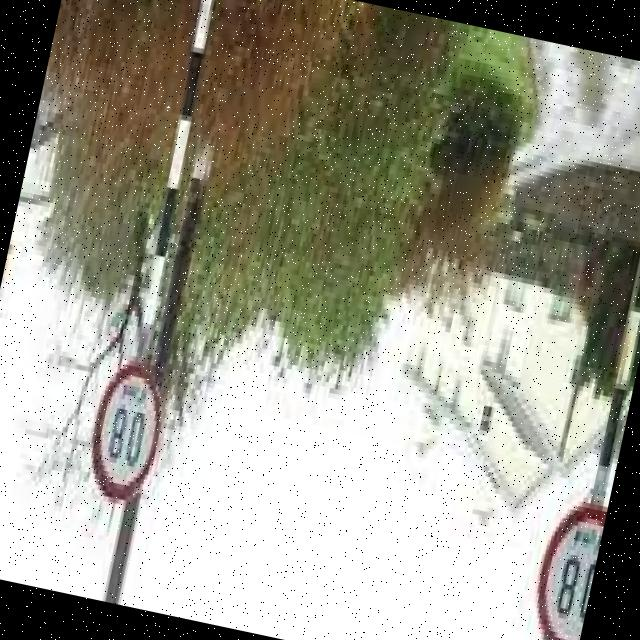speed_limit_80: (77, 360, 176, 519), (516, 495, 607, 640)
